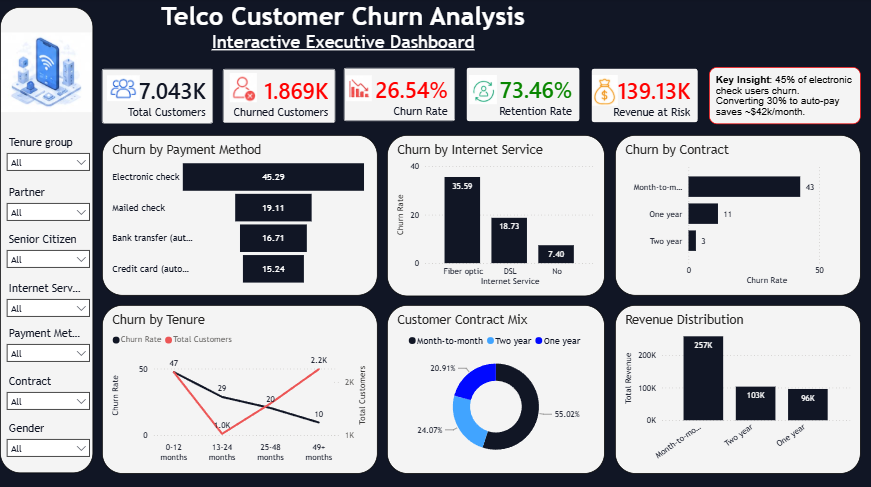

This screenshot's page, from the dashboard's own definition file:
{"tool":"powerbi","page":{"name":"Telco_Churn_Dashboard","canvas":[1280,720],"ordinal":0},"visuals":[{"type":"cardVisual","fields":{"Data":["01_churn_summary.Total Customers"]},"box":[132,86.7,198.3,115],"z":0},{"type":"cardVisual","fields":{"Data":["01_churn_summary.Churned Customers"]},"box":[310,86.7,200,114],"z":1000},{"type":"cardVisual","fields":{"Data":["01_churn_summary.Churn Rate"]},"box":[488.3,85,198.3,113.3],"z":2000},{"type":"cardVisual","fields":{"Data":["01_churn_summary.Retention Rate"]},"box":[668.3,85,200,113.3],"z":3000},{"type":"cardVisual","fields":{"Data":["01_churn_summary.Revenue at Risk"]},"box":[851.7,86.7,190,113.3],"z":4000},{"type":"clusteredBarChart","title":"Churn by Contract","fields":{"Category":["02_churn_by_contract.Contract"],"Y":["Avg(02_churn_by_contract.churn_rate)"]},"box":[904,201.7,360.6,235.8],"z":5000},{"type":"columnChart","title":"Churn by Internet Service","fields":{"Category":["05_churn_by_internet.InternetService"],"Y":["Avg(05_churn_by_internet.churn_rate)"]},"box":[569,200.9,320,237.3],"z":6000},{"type":"funnel","title":"Churn by Payment Method","fields":{"Category":["04_churn_by_payment.PaymentMethod"],"Y":["Avg(04_churn_by_payment.churn_rate)"]},"box":[150,201.8,405,236.4],"z":7000},{"type":"lineChart","title":"Churn by Tenure","fields":{"Category":["03_churn_by_tenure.tenure_group"],"Y":["Avg(03_churn_by_tenure.churn_rate)"],"Y2":["01_churn_summary.Total Customers"]},"box":[150,451.8,405,248.2],"z":8000},{"type":"donutChart","title":"Customer Contract Mix","fields":{"Category":["06_full_customers.Contract"],"Y":["CountNonNull(06_full_customers.customerID)"]},"box":[569,451.7,320,248],"z":9000},{"type":"textbox","box":[0,13.7,136.7,685.3],"z":9500},{"type":"clusteredColumnChart","title":"Revenue Distribution","fields":{"Category":["06_full_customers.Contract"],"Y":["01_churn_summary.Total Revenue"]},"box":[903.7,451.1,361.5,248.3],"z":11000},{"type":"slicer","fields":{"Values":["06_full_customers.gender"]},"box":[0,617,142,61],"z":12000},{"type":"slicer","fields":{"Values":["06_full_customers.Contract"]},"box":[0,548,142,61.7],"z":13000},{"type":"slicer","fields":{"Values":["06_full_customers.InternetService"]},"box":[0,411,142,61.7],"z":14000},{"type":"slicer","fields":{"Values":["06_full_customers.PaymentMethod"]},"box":[0,478,142,61.7],"z":15000},{"type":"slicer","fields":{"Values":["06_full_customers.SeniorCitizen"]},"box":[0,340,142,61.7],"z":16000},{"type":"slicer","fields":{"Values":["06_full_customers.Partner"]},"box":[0,270,142,61.7],"z":17000},{"type":"slicer","fields":{"Values":["06_full_customers.tenure_group"]},"box":[0,197,142,61.7],"z":18000},{"type":"textbox","box":[157.2,0,693.8,100.8],"z":19000},{"type":"image","box":[2,43.3,133,133.3],"z":20000},{"type":"image","box":[156.7,95,48.3,73.3],"z":21000},{"type":"image","box":[333.3,110,48.3,43.3],"z":22000},{"type":"image","box":[508.3,111.7,38.3,41.7],"z":23000},{"type":"image","box":[686.7,113.3,46.7,43.3],"z":24000},{"type":"image","box":[870,113.3,38.3,45],"z":25000},{"type":"textbox","box":[1041.8,101.4,223.3,84],"z":25001}]}

Visuals, with their boxes in screenshot pixels (x1, y1, x2, y2), scaled from the page's 1280x720 canvas onto the 871x487 screenshot:
cardVisual - 01_churn_summary.Total Customers: left=90, top=59, right=225, bottom=136
cardVisual - 01_churn_summary.Churned Customers: left=211, top=59, right=347, bottom=136
cardVisual - 01_churn_summary.Churn Rate: left=332, top=57, right=467, bottom=134
cardVisual - 01_churn_summary.Retention Rate: left=455, top=57, right=591, bottom=134
cardVisual - 01_churn_summary.Revenue at Risk: left=580, top=59, right=709, bottom=135
"Churn by Contract" clusteredBarChart: left=615, top=136, right=861, bottom=296
"Churn by Internet Service" columnChart: left=387, top=136, right=605, bottom=296
"Churn by Payment Method" funnel: left=102, top=136, right=378, bottom=296
"Churn by Tenure" lineChart: left=102, top=306, right=378, bottom=473
"Customer Contract Mix" donutChart: left=387, top=306, right=605, bottom=473
textbox: left=0, top=9, right=93, bottom=473
"Revenue Distribution" clusteredColumnChart: left=615, top=305, right=861, bottom=473
slicer - 06_full_customers.gender: left=0, top=417, right=97, bottom=459
slicer - 06_full_customers.Contract: left=0, top=371, right=97, bottom=412
slicer - 06_full_customers.InternetService: left=0, top=278, right=97, bottom=320
slicer - 06_full_customers.PaymentMethod: left=0, top=323, right=97, bottom=365
slicer - 06_full_customers.SeniorCitizen: left=0, top=230, right=97, bottom=272
slicer - 06_full_customers.Partner: left=0, top=183, right=97, bottom=224
slicer - 06_full_customers.tenure_group: left=0, top=133, right=97, bottom=175
textbox: left=107, top=0, right=579, bottom=68
image: left=1, top=29, right=92, bottom=119
image: left=107, top=64, right=139, bottom=114
image: left=227, top=74, right=260, bottom=104
image: left=346, top=76, right=372, bottom=104
image: left=467, top=77, right=499, bottom=106
image: left=592, top=77, right=618, bottom=107
textbox: left=709, top=69, right=861, bottom=125
